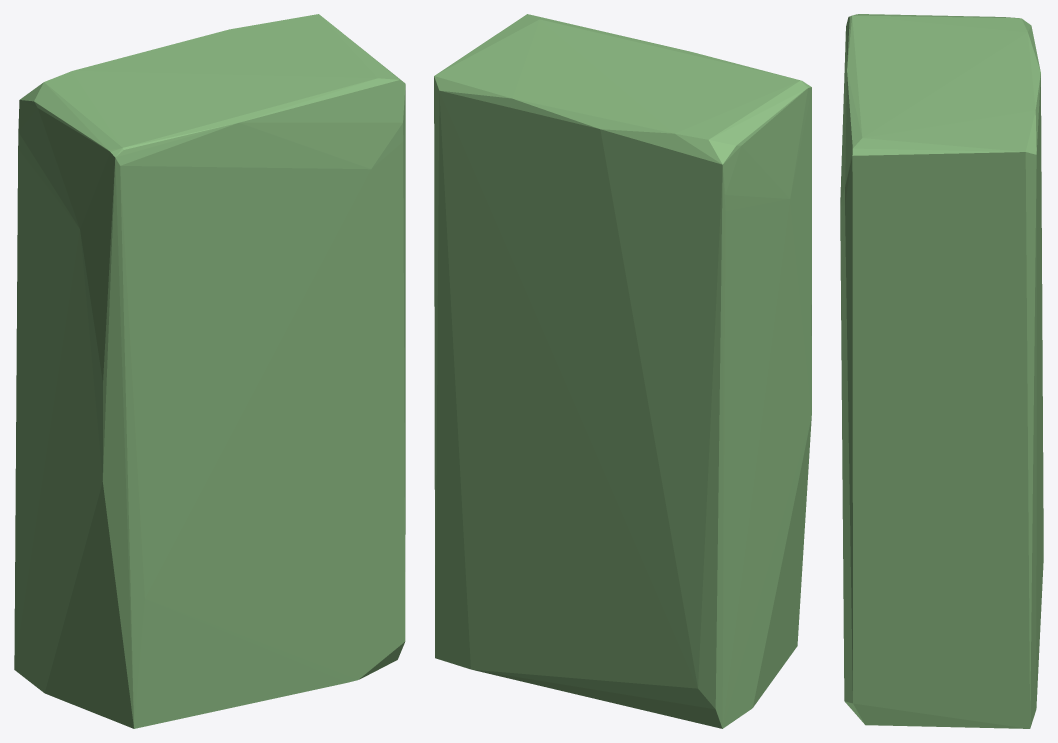
Rendered from cleaning_sponge_h01.glb.
3 views of the same model, side by side, from view 1: azimuth 30°, elevation 25°; view 2: azimuth 150°, elevation 25°; view 3: azimuth 270°, elevation 25° (orthographic).
Visible parts, largest first — view 1: geometry_0; view 2: geometry_0; view 3: geometry_0.
Part boxes in pixels (x1,y1,x2,y2): geometry_0: (14,14,405,728); geometry_0: (434,14,811,728); geometry_0: (840,14,1043,728).
Size of the model in its own units: 0.2538 by 0.4785 by 0.1517.
